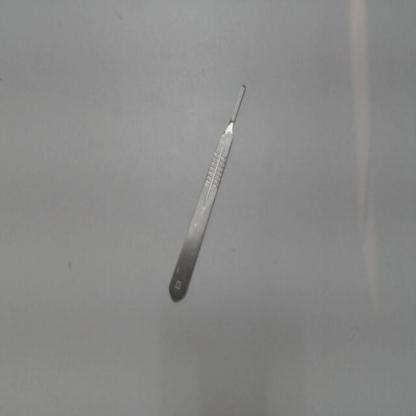No.4 BP Handle: (163, 69, 264, 313)
